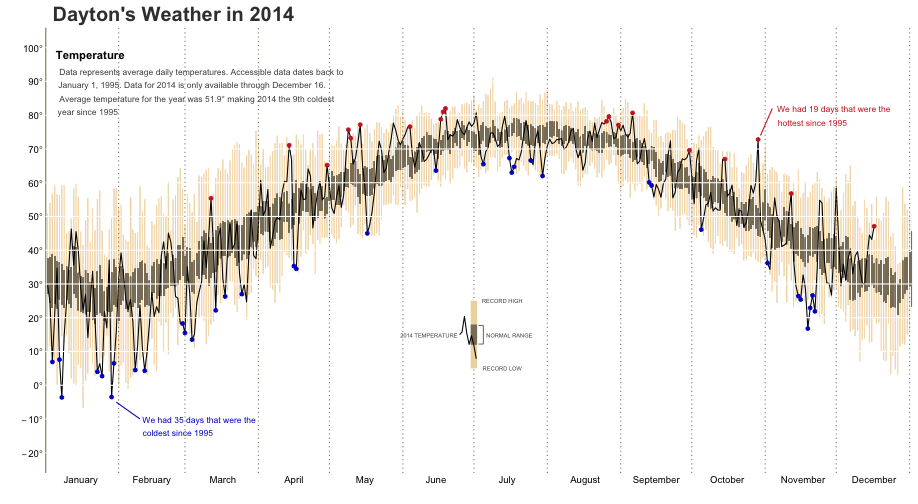

What the dashboard file says about the page in this screenshot:
{"tool":"tableau","page":{"name":"Dashboard 1","canvas":[540,340],"ordinal":0},"visuals":[{"type":"worksheet","title":"Sheet 1","mark":"Automatic","rows":["TFP"],"cols":["Decade"],"box":[5,9,526,309]},{"type":"text","box":[38,324,489,11]}]}

Visuals, with their boxes on the page's 540x340 design canvas (x1, y1, x2, y2). These are canvas units, not pixel positions in the 918x504 screenshot, which may show the page scaled, cropped or inside an application window:
"Sheet 1" worksheet: select_region(5, 9, 531, 318)
text: select_region(38, 324, 527, 335)
